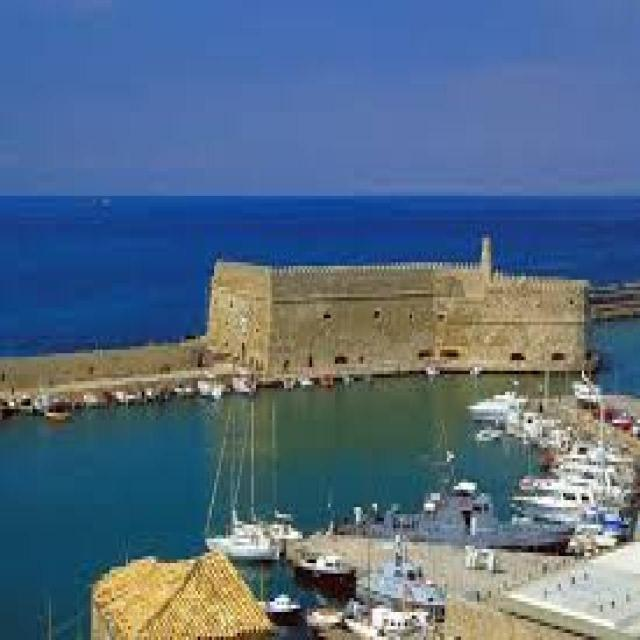Kules: (203, 235, 607, 376)
